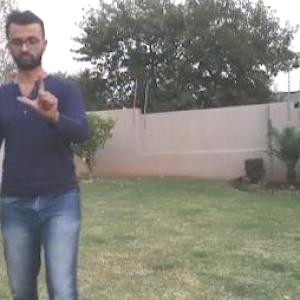land_hand: (14, 65, 66, 122)
